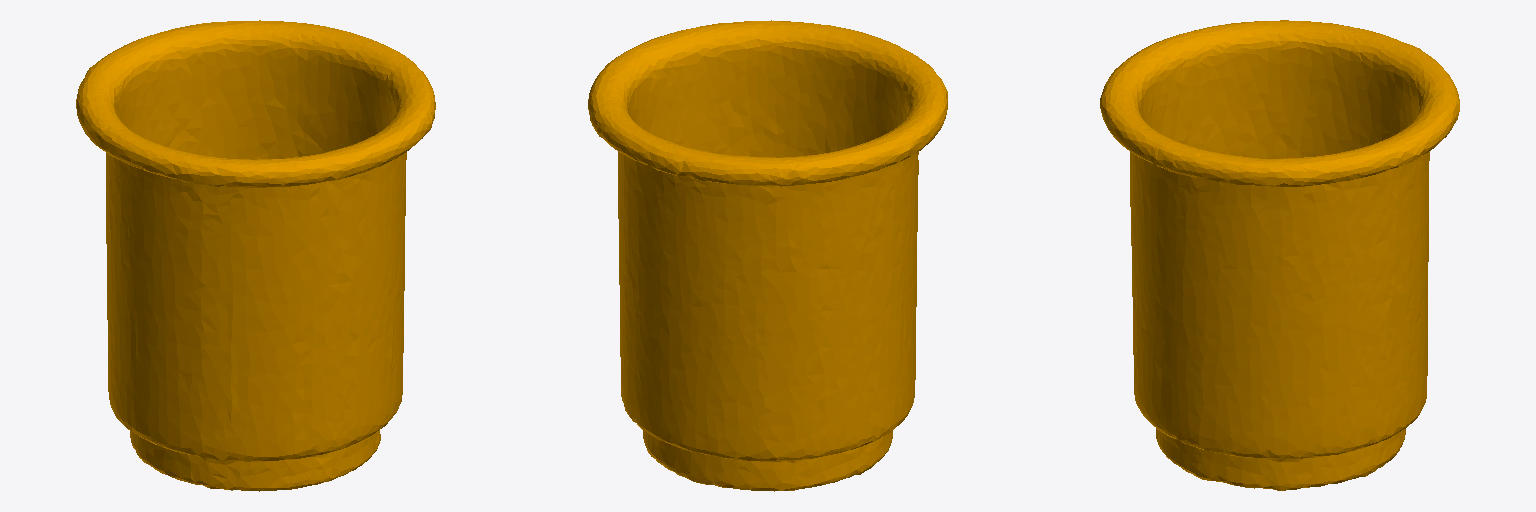
URDF robot description (065-a_cups):
<?xml version="1.0" ?>
<robot name="065-a_cups">
  <link name="base_link">
    <inertial>
      <mass value="0.012499497195845411"/>
      <origin rpy="3.14083e+00 -1.00000e-03  2.75397e+00" xyz="-0.032   -0.04531  0.03292"/>
      <inertia ixx="5.815160381811815e-06" ixy="-1.4646701905535686e-21" ixz="1.407317226032555e-22" iyy="5.810616228774471e-06" iyz="-3.223258287489471e-23" izz="4.173295425524755e-06"/>
    </inertial>
    <collision name="065-a_cups__collision">
      <origin rpy="0 0 0" xyz="0 0 0"/>
      <geometry>
        <mesh filename="./065-a_cups_250_collision.stl" scale="1.0 1.0 1.0"/>
      </geometry>
    </collision>
    <visual name="065-a_cups__visual">
      <origin rpy="0 0 0" xyz="0 0 0"/>
      <geometry>
        <mesh filename="./textured.obj" scale="1.0 1.0 1.0"/>
      </geometry>
    </visual>
  </link>
</robot>

--- Facts derived from the render (not from the file) ---
The picture shows the robot from 3 angles, left to right: view 1: azimuth 30°, elevation 25°; view 2: azimuth 150°, elevation 25°; view 3: azimuth 270°, elevation 25°; orthographic projection.
Model 065-a_cups with 1 links and 0 joints (none), rooted at base_link, posed all joints at 0.
Visible links, largest first — view 1: base_link; view 2: base_link; view 3: base_link.
Link boxes in pixels (box(x1,y1,x2,y2)): base_link: box(76, 20, 435, 491); base_link: box(588, 20, 947, 491); base_link: box(1100, 20, 1459, 490).
Size in the robot's own frame: 0.0571 by 0.0574 by 0.0615 metres.
Meshes: 1 distinct files referenced, 1 mesh visuals loaded (1 OBJ).